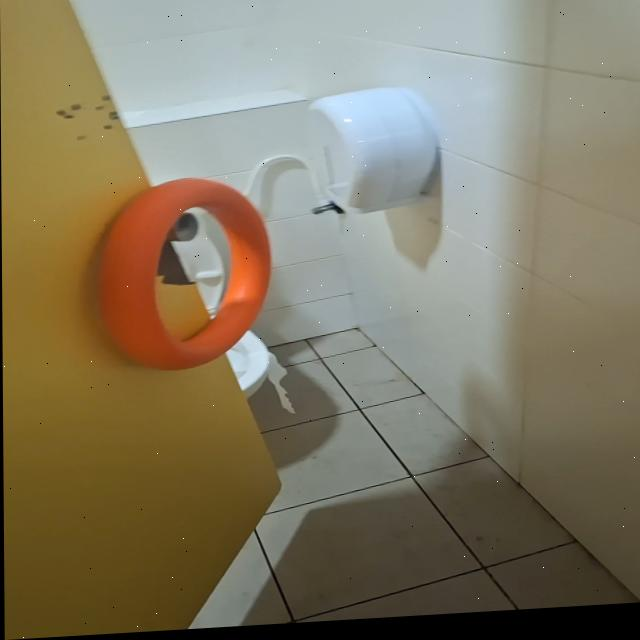note: (97, 175, 274, 377)
